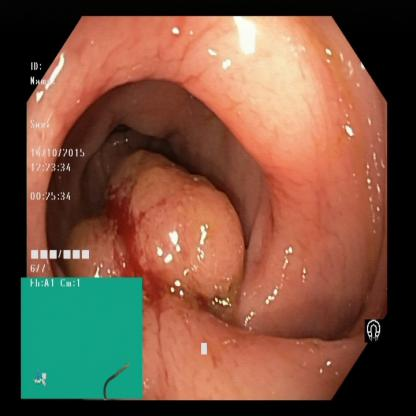Labels: (26, 61, 105, 276), (25, 278, 141, 400), (361, 312, 392, 352)
Polyps: (122, 159, 242, 292)
